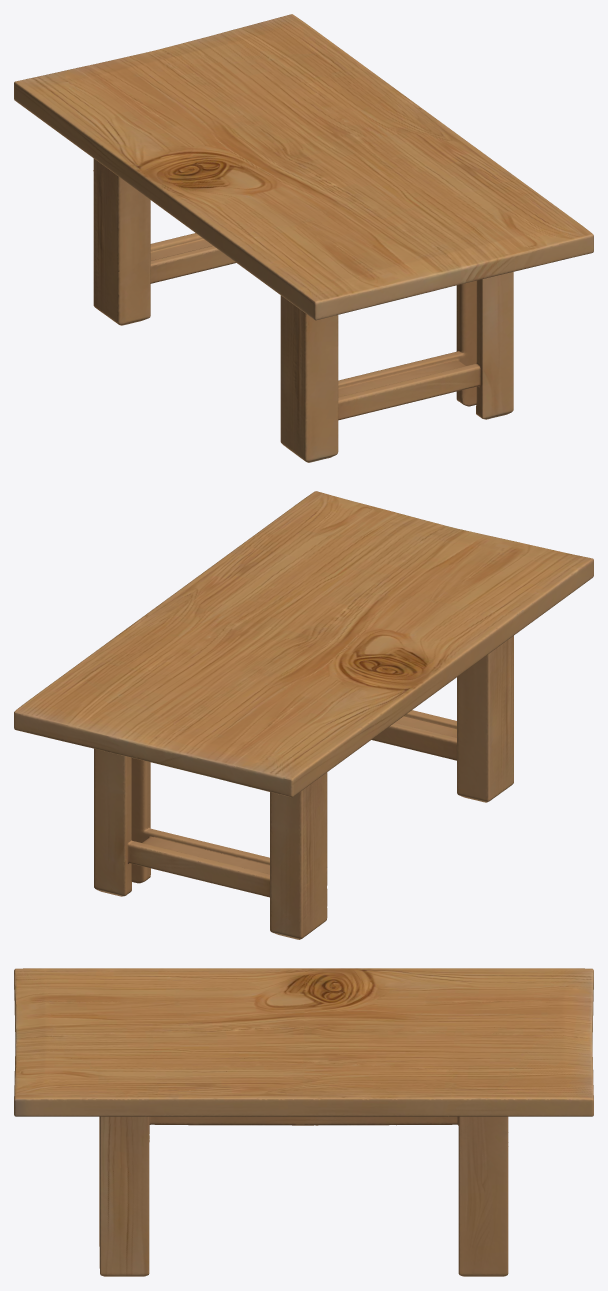
File: detailed_realistic_model_grandoaktable_08.glb
The picture shows the model from 3 angles, top to bottom: view 1: azimuth 30°, elevation 25°; view 2: azimuth 150°, elevation 25°; view 3: azimuth 270°, elevation 25°; orthographic projection. The views are drawn at different scales.
Parts seen in each view (by area): view 1: tripo_node_3f510caa-f667-48d3-9346-273a2845c6ae; view 2: tripo_node_3f510caa-f667-48d3-9346-273a2845c6ae; view 3: tripo_node_3f510caa-f667-48d3-9346-273a2845c6ae.
Boxes of the visible parts, box(x1,y1,x2,y2) form: tripo_node_3f510caa-f667-48d3-9346-273a2845c6ae: box(14, 14, 593, 462); tripo_node_3f510caa-f667-48d3-9346-273a2845c6ae: box(14, 491, 593, 939); tripo_node_3f510caa-f667-48d3-9346-273a2845c6ae: box(14, 968, 593, 1276).
Size of the model in its own units: 0.5341 by 0.3759 by 1.
Materials: 1 (1 with a texture image).
